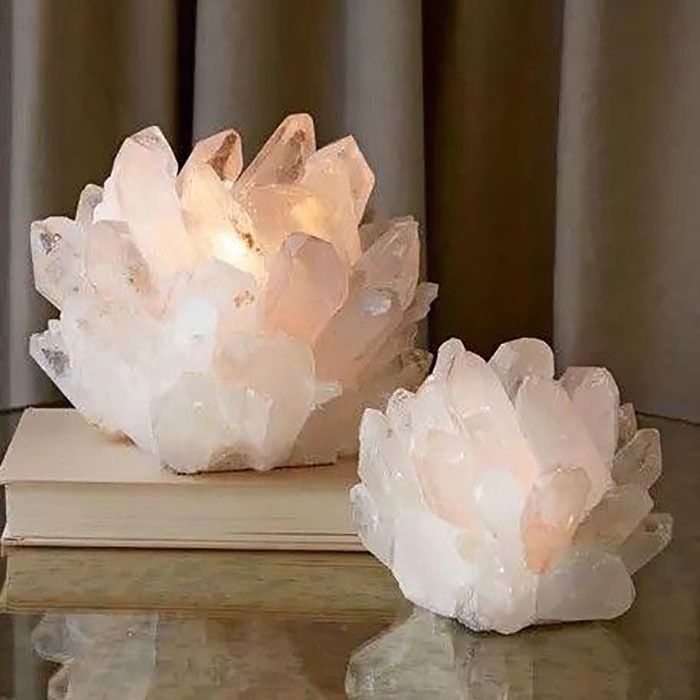Clear_Quartz: (23, 113, 442, 479), (334, 336, 679, 632)
